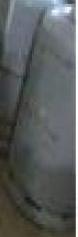cylinder: (0, 1, 78, 237)
